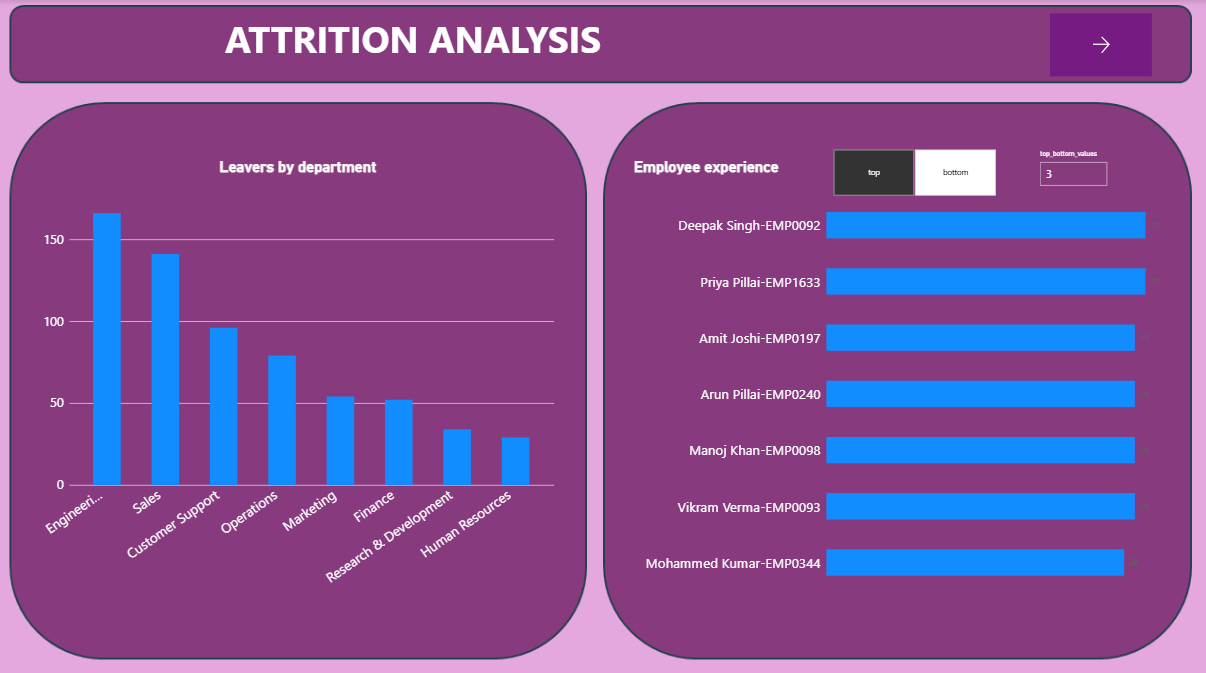

The dashboard page shown, as its layout file describes it:
{"tool":"powerbi","page":{"name":"Page 3","canvas":[1920,1080],"ordinal":2},"visuals":[{"type":"clusteredColumnChart","title":"Leavers by department","fields":{"Category":["Dim_Job.Department","Dim_Job.Job_Role","Dim_Job.Job_Level"],"Y":["calculated_Table.attrition_count"]},"box":[51,235.3,847.6,734.2],"z":0},{"type":"clusteredBarChart","title":"Employee experience","fields":{"Category":["Dim_Employee.employee_name_id"],"Y":["calculated_Table.top_bottom"]},"box":[992.1,235.3,867.4,734.2],"z":1000},{"type":"slicer","fields":{"Values":["Top_bottom_Table.top_bottom"]},"box":[1305.1,236.2,297.6,76.5],"z":2000},{"type":"slicer","fields":{"Values":["top_bottom_values.top_bottom_values"]},"box":[1646.3,238.6,136.1,70.9],"z":3000},{"type":"actionButton","box":[1670.1,21.5,162.2,100.2],"z":3001},{"type":"textbox","box":[357.9,21.5,847,90.7],"z":3002}]}

Visuals, with their boxes in screenshot pixels (x1, y1, x2, y2), scaled from the page's 1920x1080 canvas onto the 1206x673 screenshot:
"Leavers by department" clusteredColumnChart: (x1=32, y1=147, x2=564, y2=604)
"Employee experience" clusteredBarChart: (x1=623, y1=147, x2=1168, y2=604)
slicer - Top_bottom_Table.top_bottom: (x1=820, y1=147, x2=1007, y2=195)
slicer - top_bottom_values.top_bottom_values: (x1=1034, y1=149, x2=1120, y2=193)
actionButton: (x1=1049, y1=13, x2=1151, y2=76)
textbox: (x1=225, y1=13, x2=757, y2=70)
